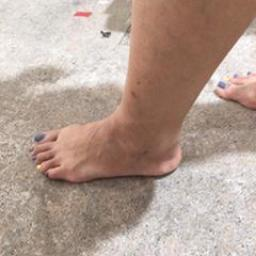Lateral View -Left Foot-: (26, 85, 208, 202)
